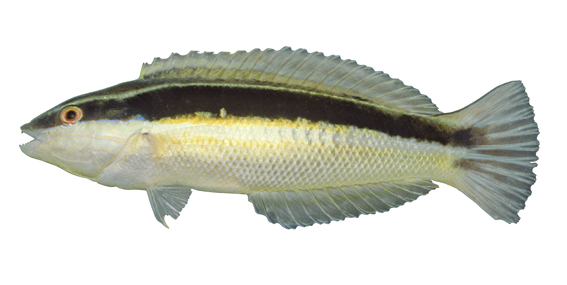fish: (19, 47, 540, 230)
